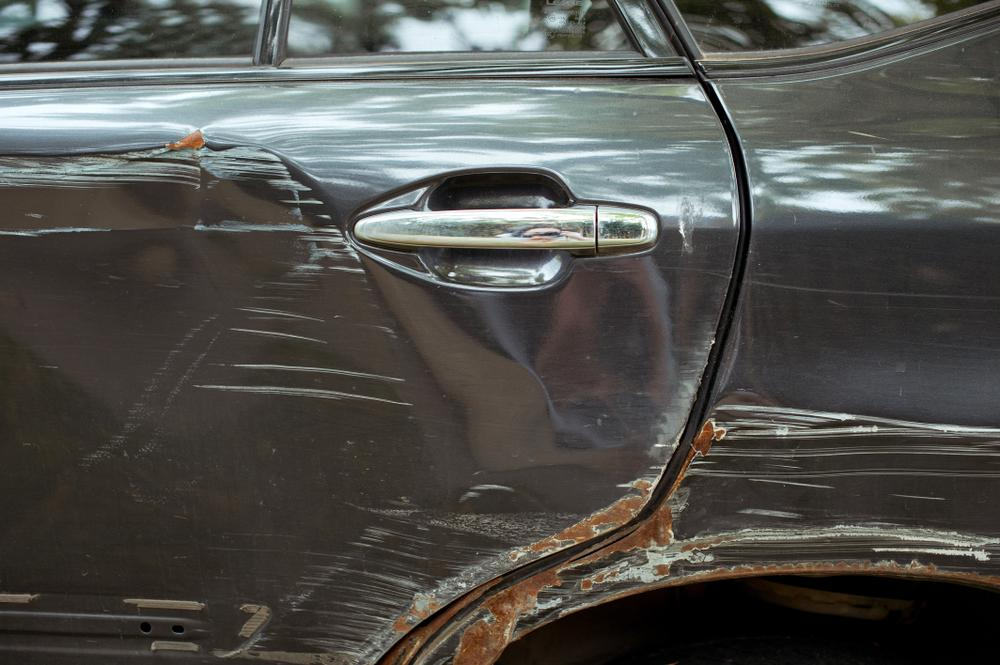dent: (469, 262, 676, 438)
scratch: (372, 402, 1000, 665), (0, 125, 425, 413), (221, 422, 687, 665)
